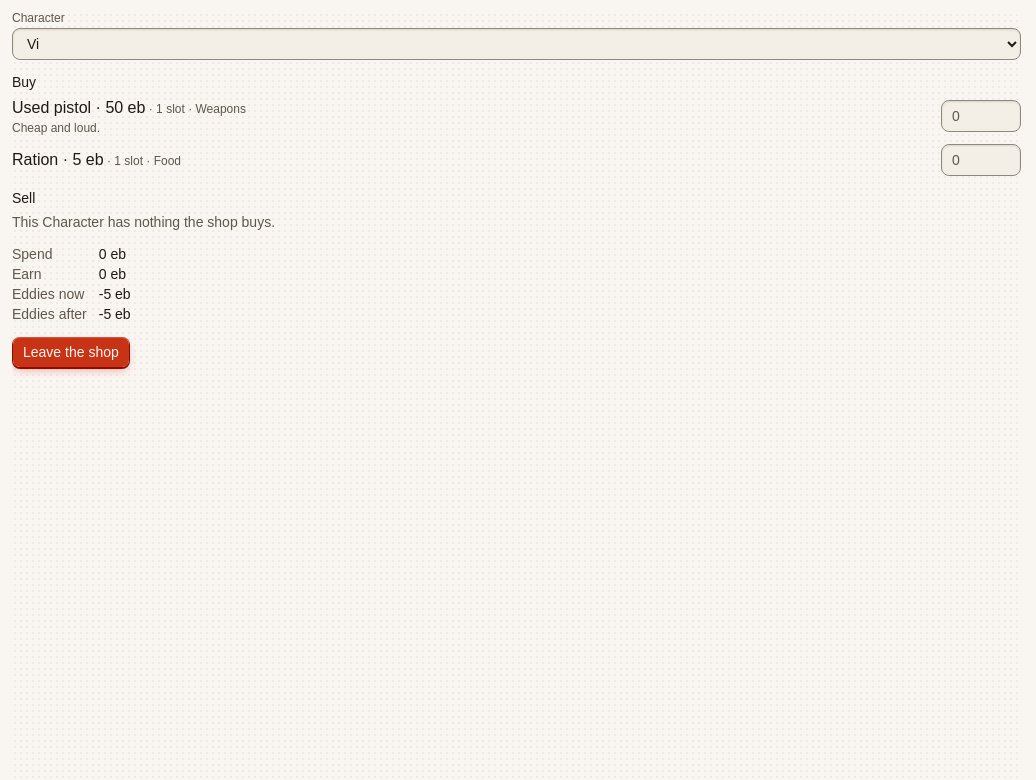
it: ShopStepForm balance rules › refuses a purchase that leaves the balance under the floor and lower than before
Type "1" into the number field named "Buy Ration".
click(981, 160); type("1")  # box [941,144,1021,176]
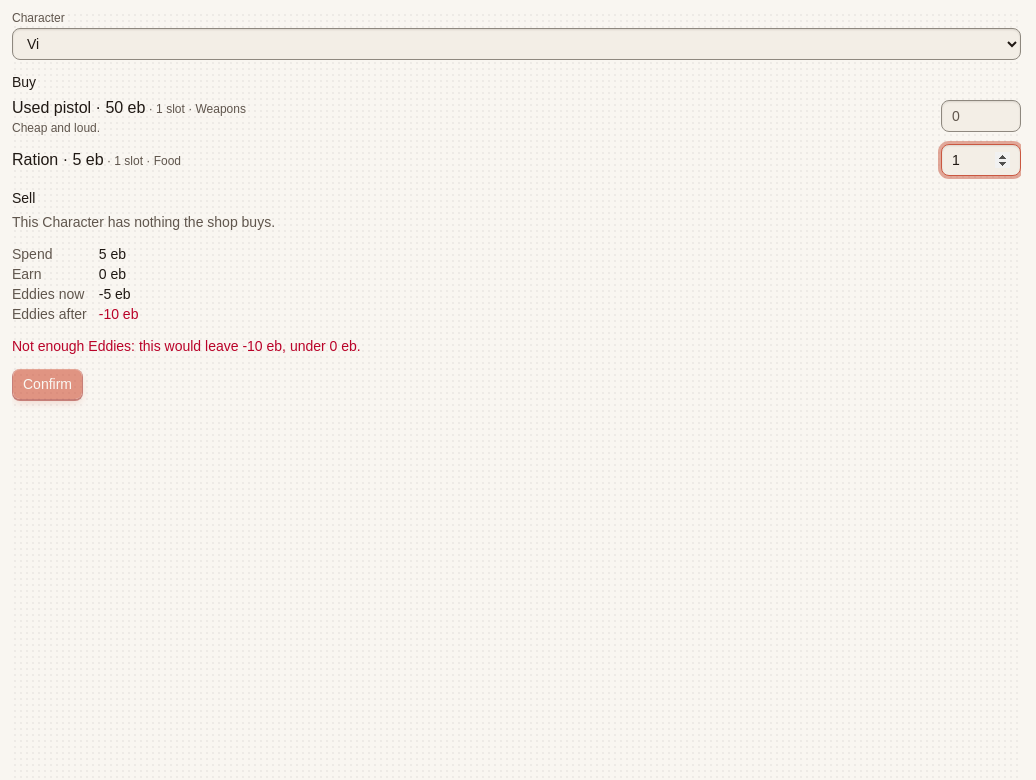
Expected: the message shows "Not enough Eddies", [12,338,361,354]
Expected: the button "Confirm" is disabled, [12,368,83,400]
